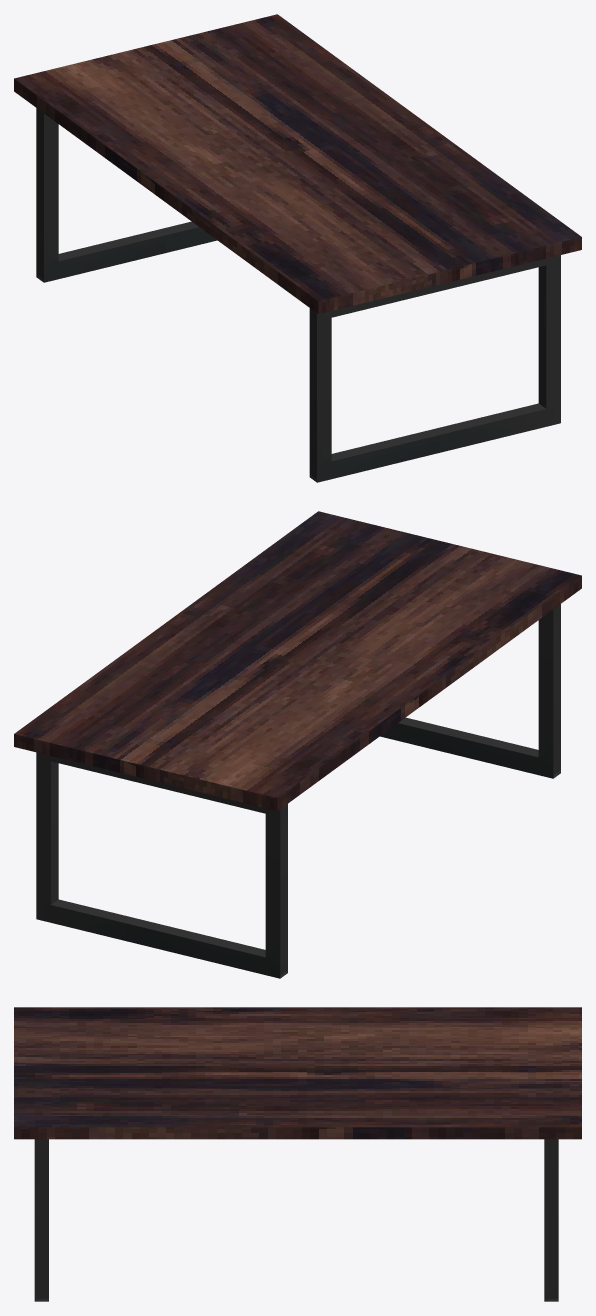
The model's file is pc_table.glb.
3 renders of one model, top to bottom at view 1: azimuth 30°, elevation 25°; view 2: azimuth 150°, elevation 25°; view 3: azimuth 270°, elevation 25°, orthographic. The views are drawn at different scales.
Visible parts, largest first — view 1: TableTop, RightLeg, LeftLeg; view 2: TableTop, LeftLeg, RightLeg; view 3: TableTop, RightLeg, LeftLeg.
Boxes of the visible parts, bbox=[...] form: TableTop: bbox=[14, 14, 581, 313]; RightLeg: bbox=[309, 255, 560, 482]; LeftLeg: bbox=[36, 108, 217, 282]; TableTop: bbox=[14, 511, 581, 810]; LeftLeg: bbox=[36, 752, 287, 978]; RightLeg: bbox=[380, 604, 560, 778]; TableTop: bbox=[14, 1007, 581, 1139]; RightLeg: bbox=[34, 1139, 48, 1301]; LeftLeg: bbox=[544, 1139, 558, 1301].
Bounding box in the file's own units: 2 × 1.39 × 4.
Materials: 3 (3 with a texture image).
